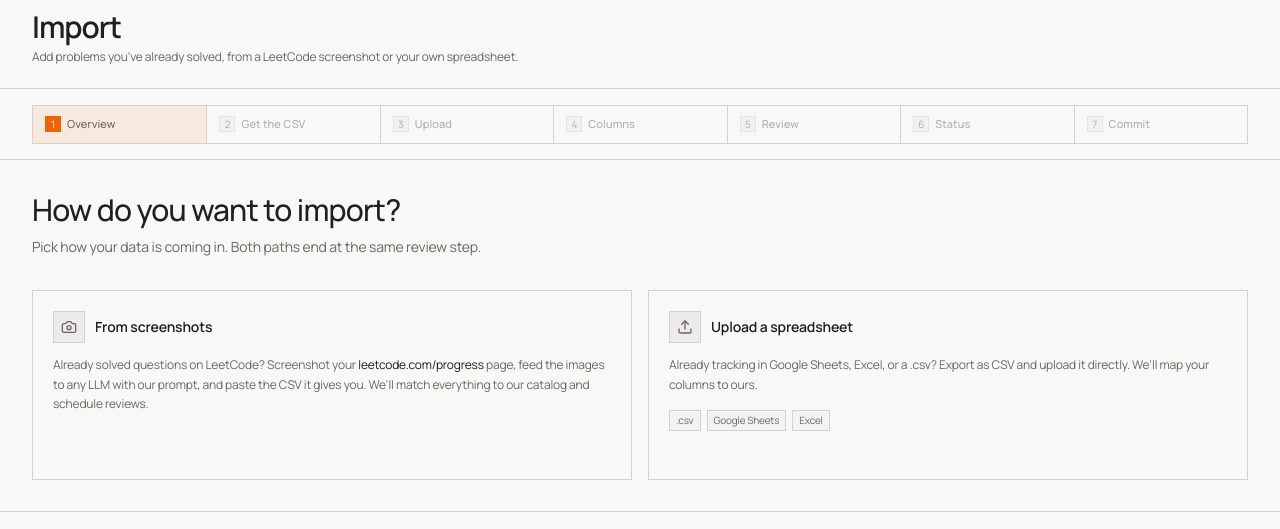
ImportPage wizard › Upload-a-spreadsheet on the brief page jumps straight to the load phase
Click the button "Upload a spreadsheet" at (685, 327), box [648,290,1248,480]
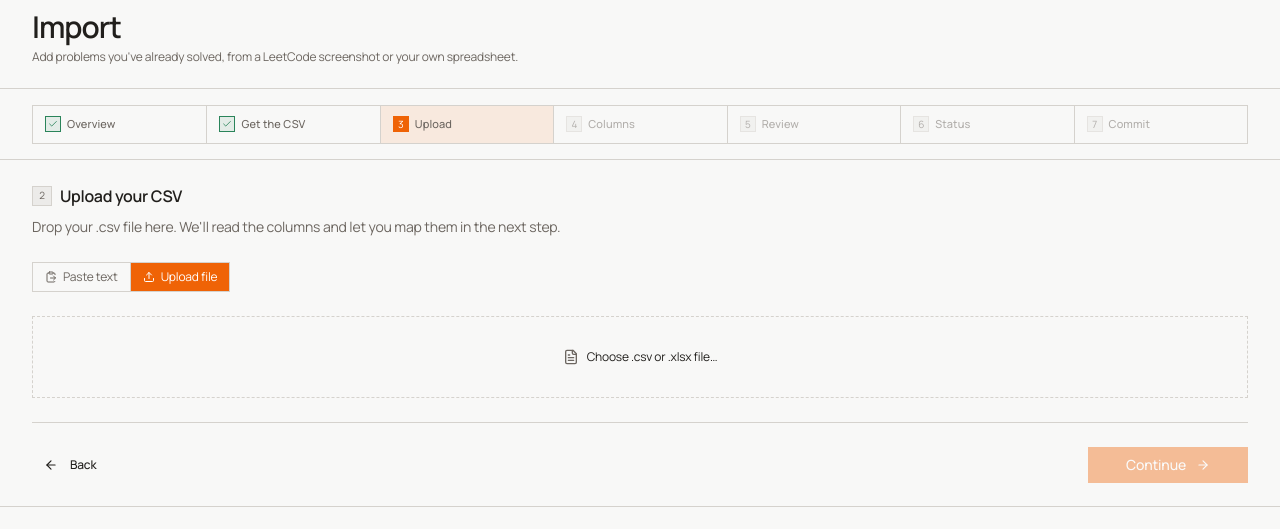
Check: the text "Choose .csv or .xlsx file…" is shown, box [587,349,717,365]
